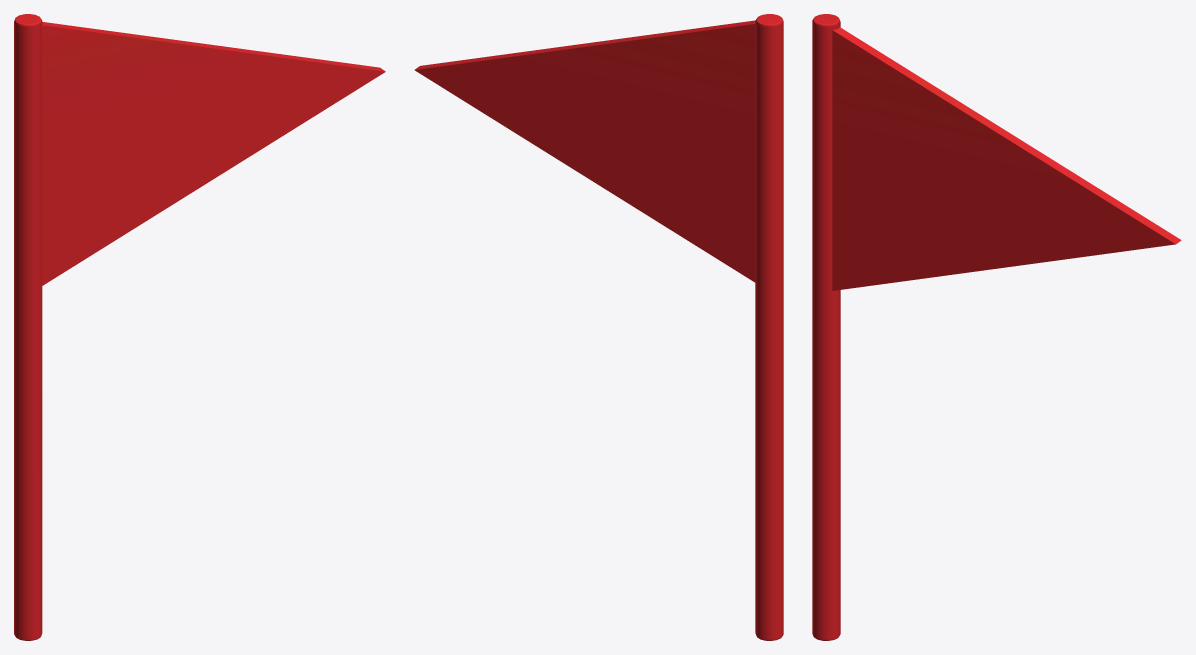
File: red_flag.fbx
The picture shows the model from 3 angles, left to right: view 1: azimuth 30°, elevation 25°; view 2: azimuth 150°, elevation 25°; view 3: azimuth 330°, elevation 25°; orthographic projection.
Parts seen in each view (by area): view 1: pCylinder6; view 2: pCylinder6; view 3: pCylinder6.
Boxes of the visible parts, left/top/right/bottom form: pCylinder6: left=14, top=14, right=385, bottom=640; pCylinder6: left=414, top=14, right=783, bottom=640; pCylinder6: left=812, top=14, right=1181, bottom=640.
Bounding box in the file's own units: 29.74 × 47.92 × 1.95.
